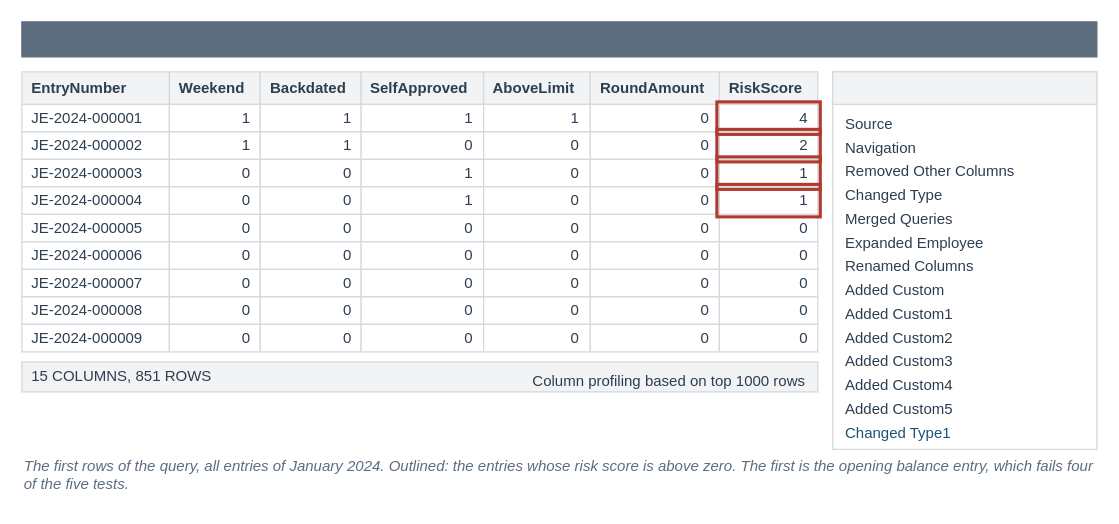
Image size: 1119x524. Some labels were removed from this diagram. The shapes that lost their labels are listed below. From the top down, each one's centre as x and y in pixels, then its label:
At point (559, 39): "Power Query Editor - JournalEntry".
At point (964, 87): "Applied Steps".
